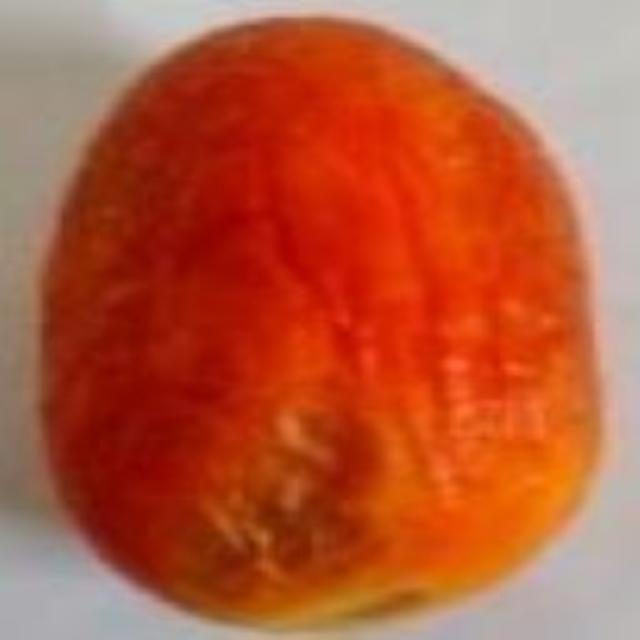defect: (33, 14, 606, 630)
